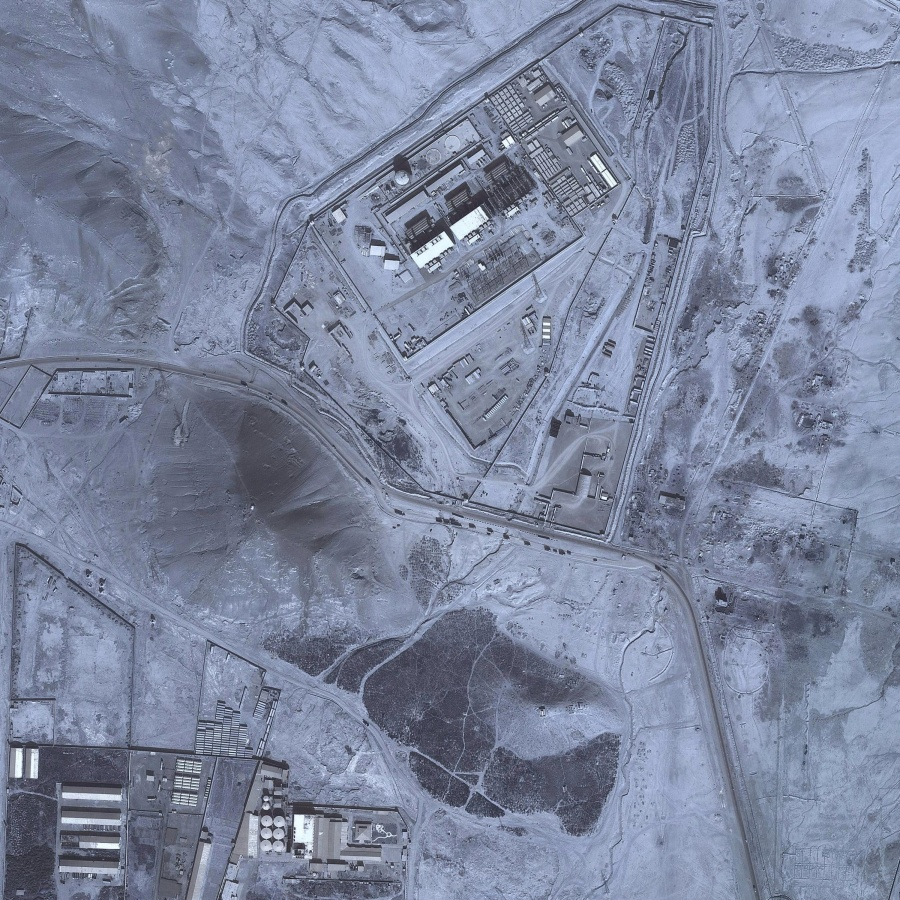PowerPlant: (368, 88, 617, 272)
